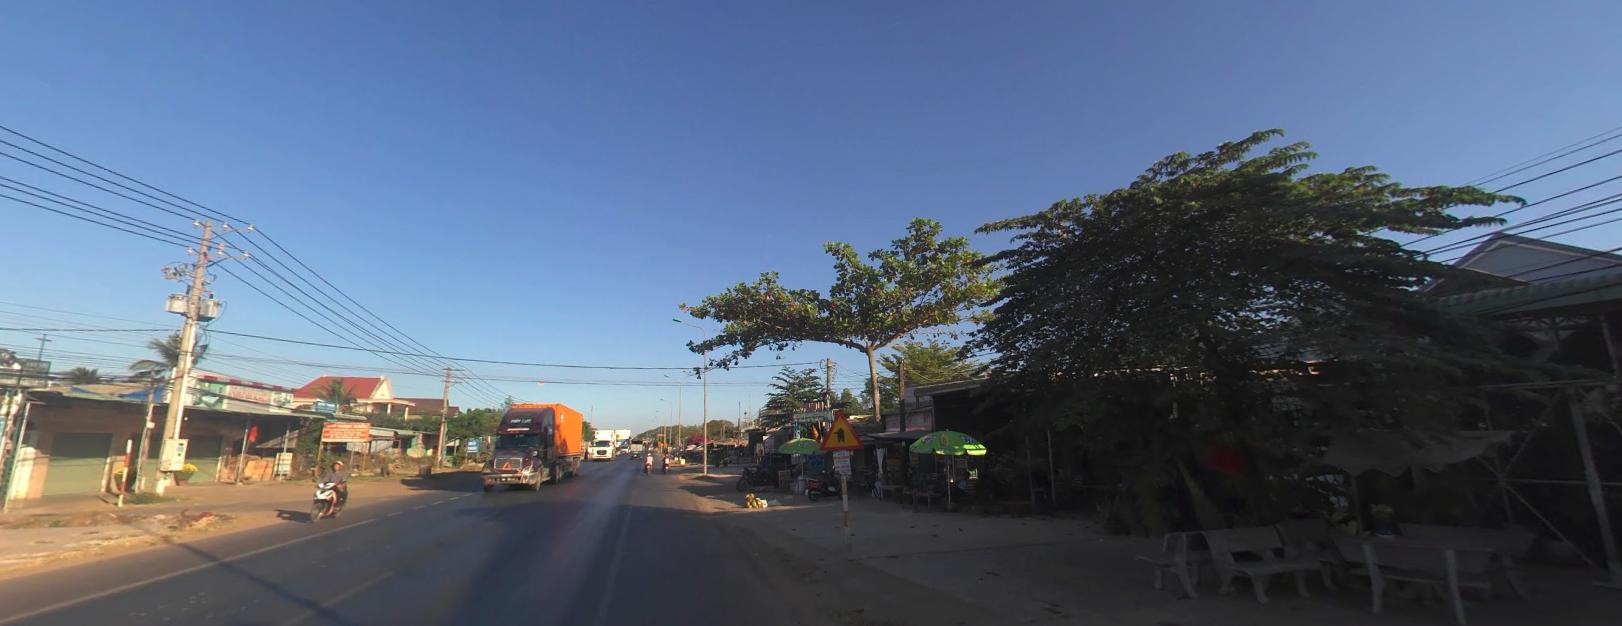Nguy hiem: (820, 409, 864, 449)
